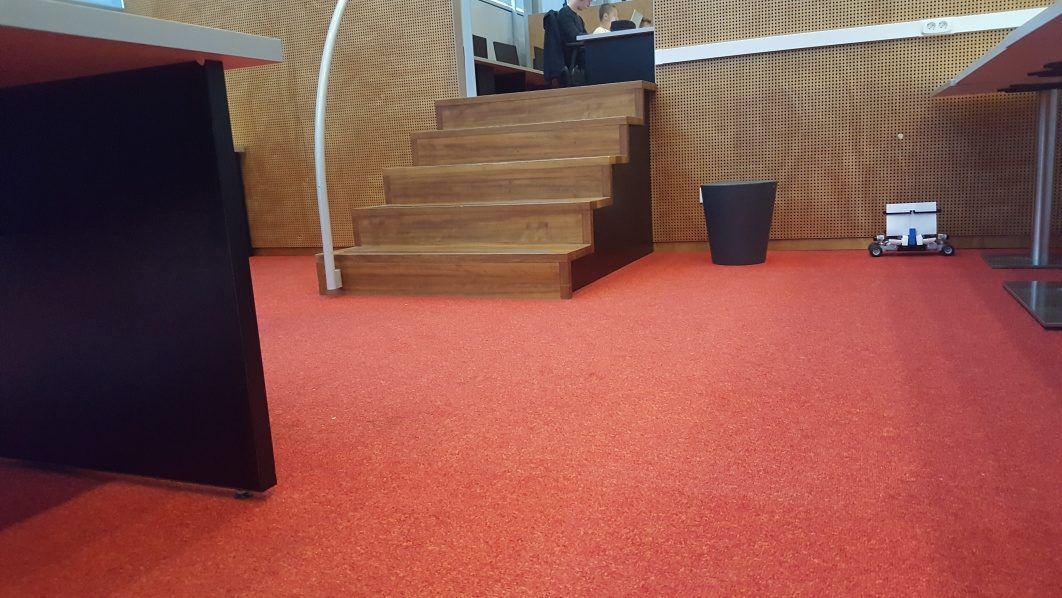car: (867, 199, 955, 257)
